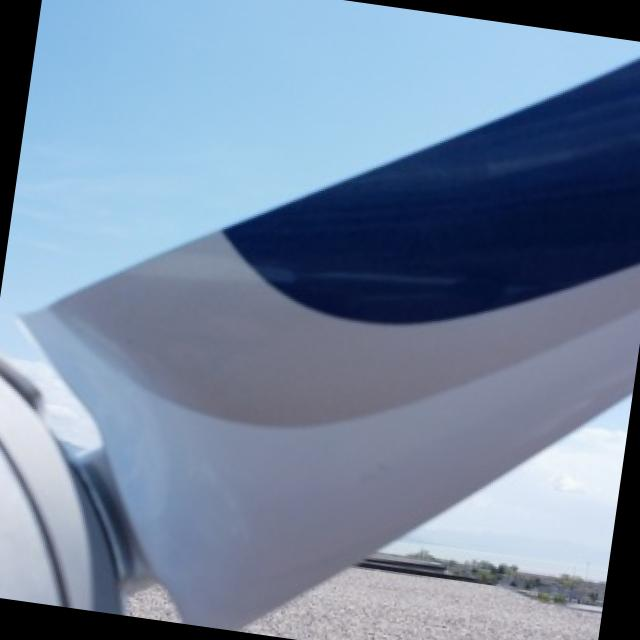healthy: (0, 0, 640, 629)
